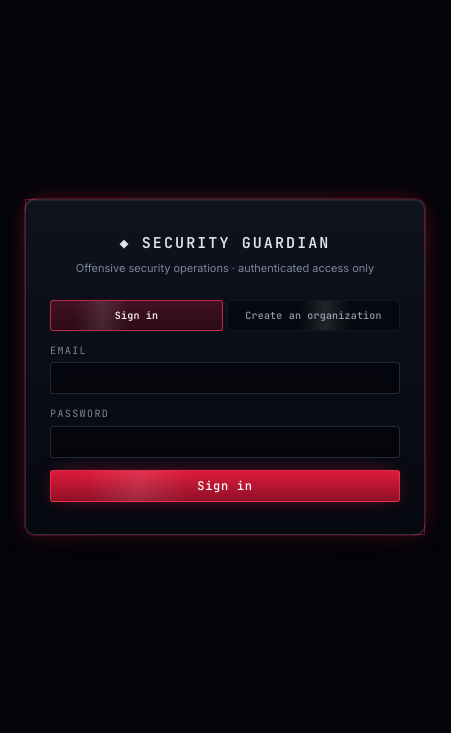
Scenario: sign-up › surfaces the server's refusal on sign-up
Click the button "Create an organization" at point(314, 315), box x1=227 y1=300 x2=400 y2=331
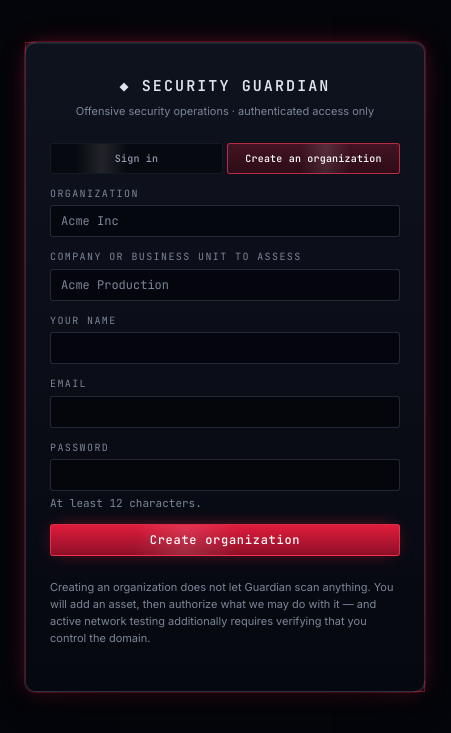
Type "Acme" into the field labelled "Organization" at point(225, 221), box x1=50 y1=205 x2=400 y2=237
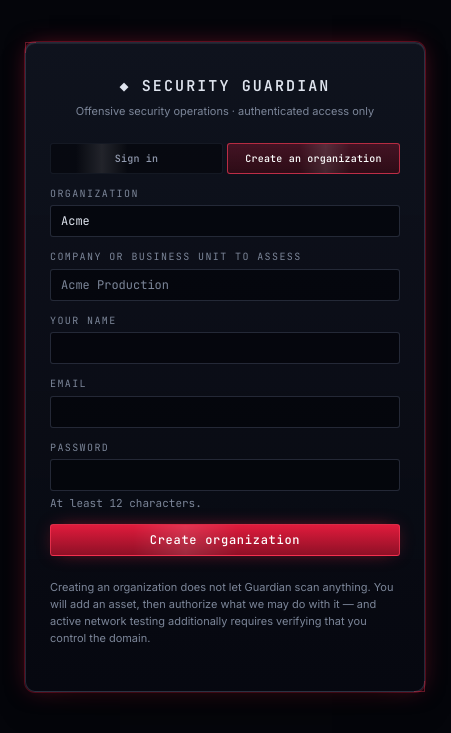
Type "a@example.com" into the field labelled "Email" at point(225, 412), box x1=50 y1=396 x2=400 y2=428
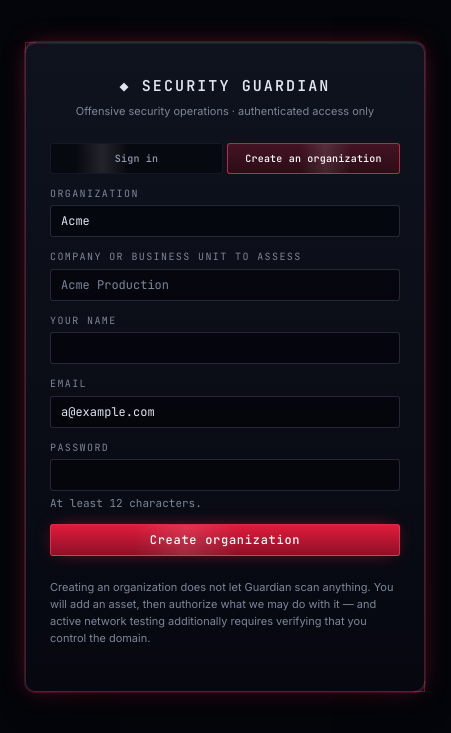
Type "correct horse battery" into the password field labelled "Password At least 12 characters." at point(225, 475), box x1=50 y1=459 x2=400 y2=491
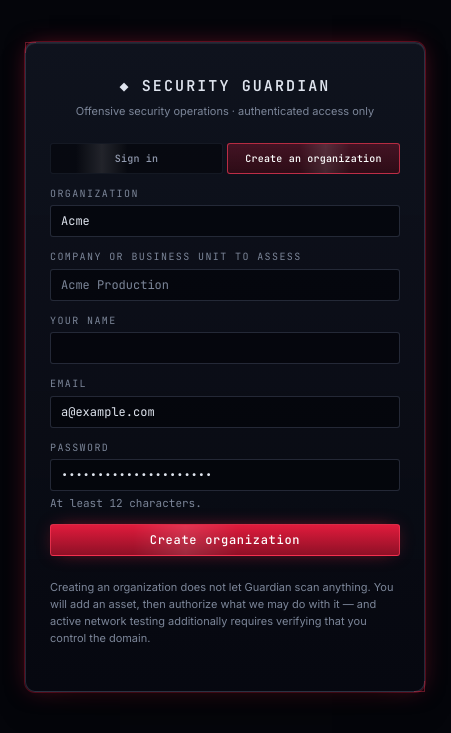
Click the button "Create organization" at point(225, 540), box x1=50 y1=524 x2=400 y2=556
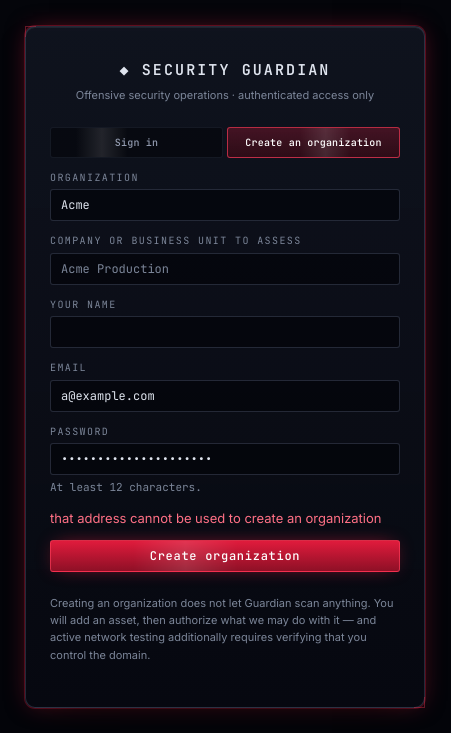
Result: the message shows "cannot be used" at x1=50 y1=510 x2=382 y2=526
